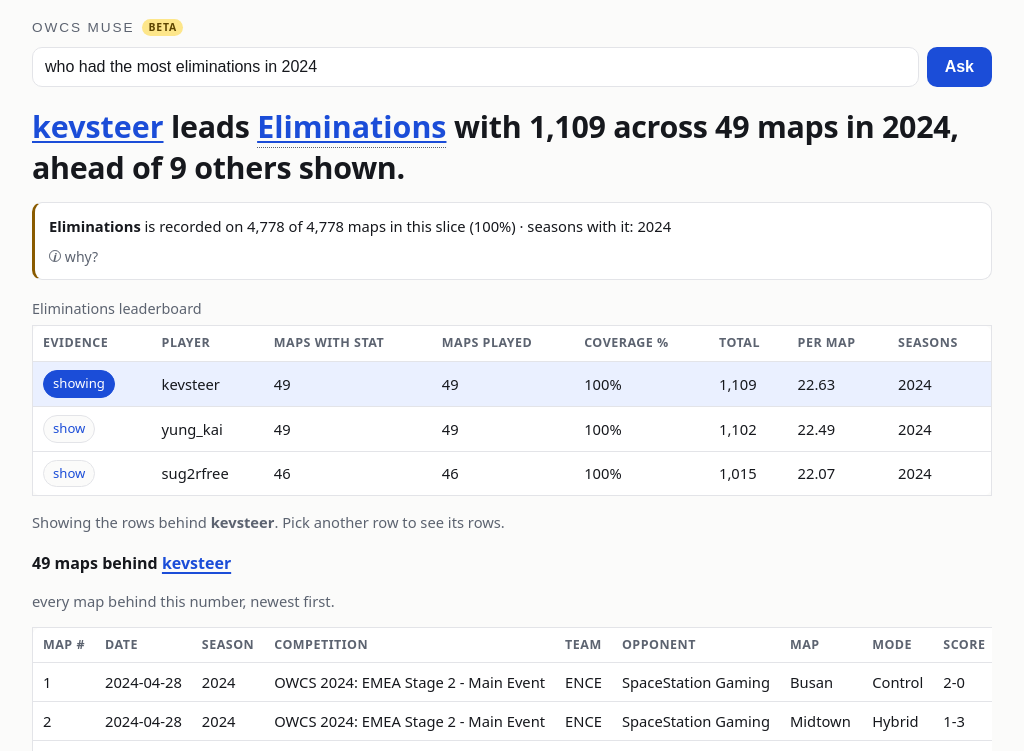
asking › expands a different ranked row through the API
The width and height of the screenshot is (1024, 751).
Expected: the element with test id "aggregate" is shown, [32,298,992,533]
Click the button "show" next to "yung_kai". click: (69,429)
box: [43,415,95,442]
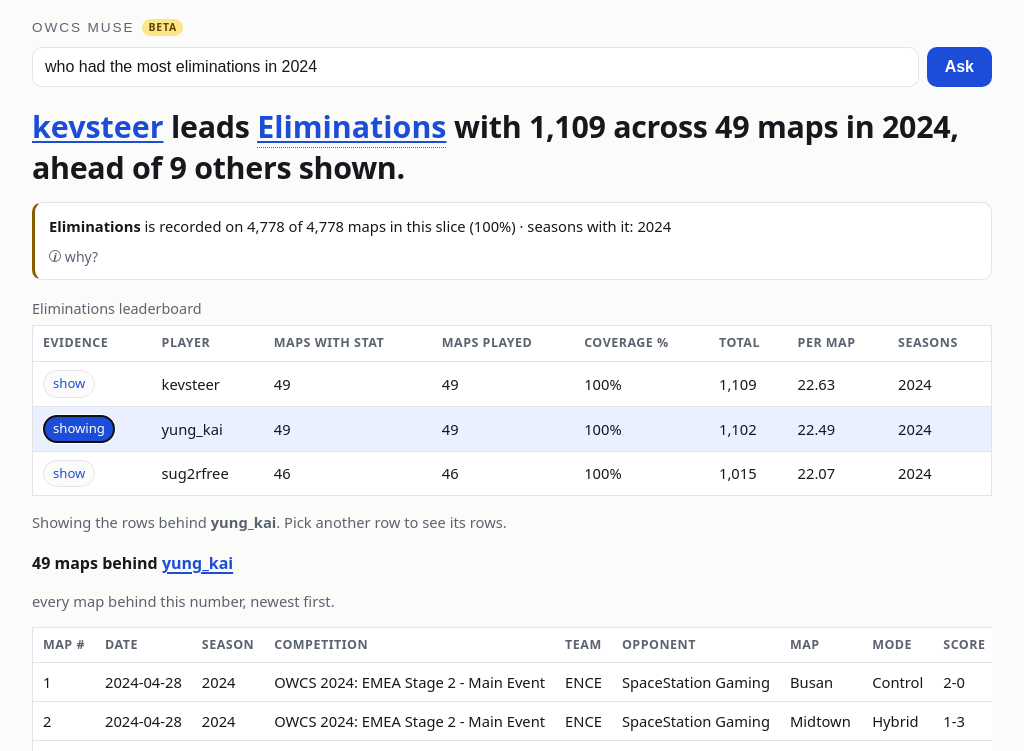
Expected: the button with test id "evidence-subject" reads "yung_kai", [162,551,233,575]
